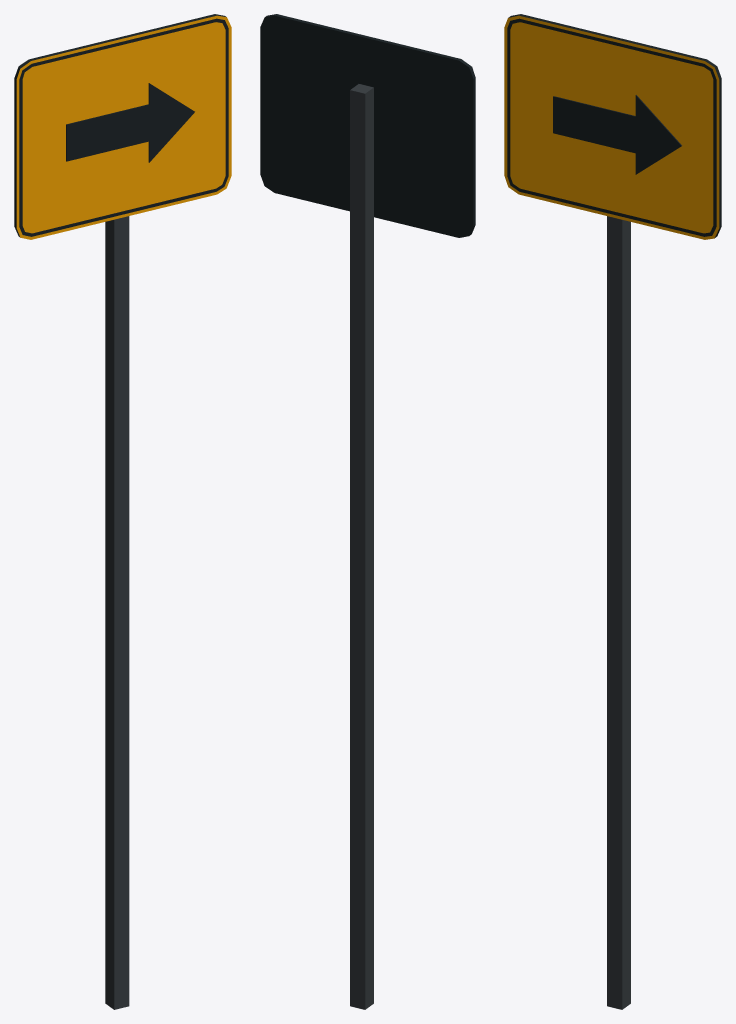
The model's file is SM_FloorProps_RoadSign_24.fbx.
3 renders of one model, left to right at view 1: azimuth 30°, elevation 25°; view 2: azimuth 150°, elevation 25°; view 3: azimuth 330°, elevation 25°, orthographic.
Parts seen in each view (by area): view 1: SM_FloorProps_RoadSign_24; view 2: SM_FloorProps_RoadSign_24; view 3: SM_FloorProps_RoadSign_24.
Part boxes in pixels (left/top/right/bottom): SM_FloorProps_RoadSign_24: left=14, top=14, right=231, bottom=1009; SM_FloorProps_RoadSign_24: left=260, top=14, right=475, bottom=1009; SM_FloorProps_RoadSign_24: left=504, top=14, right=721, bottom=1009.
Size of the model in its own units: 0.6082 by 2.63 by 0.0586.
